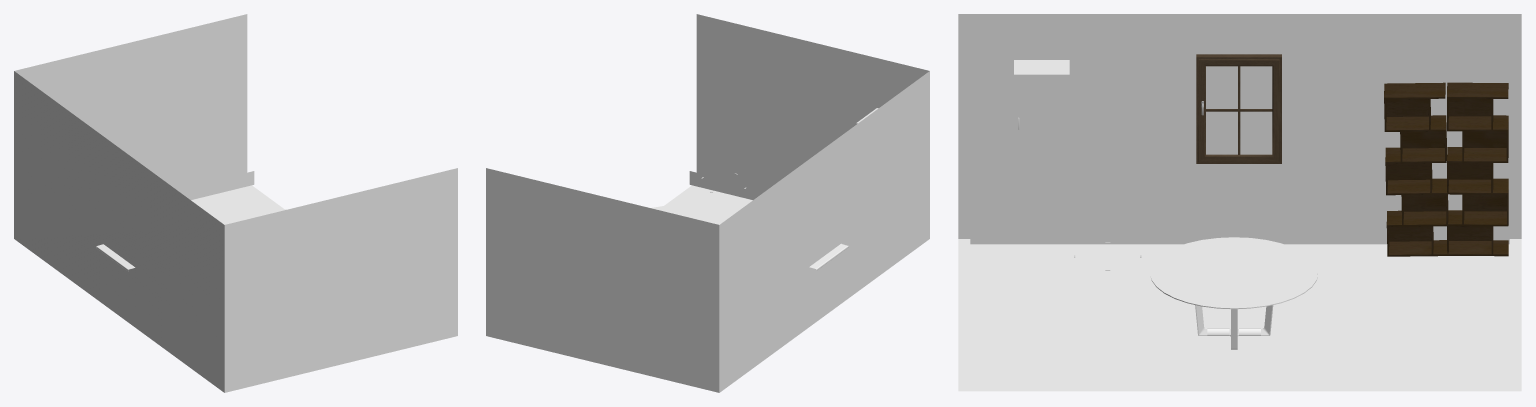
File: roomdemo.glb
3 renders of one model, left to right at view 1: azimuth 30°, elevation 25°; view 2: azimuth 150°, elevation 25°; view 3: azimuth 270°, elevation 25°, orthographic. The views are drawn at different scales.
Visible parts, largest first — view 1: Room.001, Floor, Baseboard, TimberTop.001; view 2: Room.001, Floor, Baseboard, TimberTop.001; view 3: Room.001, Floor, TimberTop.001, Asymmetric bookshelf.001, Asymmetric bookshelf, window.001, Baseboard, Cabinet1_Door, Cabinet1.
Part boxes in pixels (bbox=[...]): Room.001: bbox=[14, 14, 457, 392]; Floor: bbox=[191, 185, 283, 218]; Baseboard: bbox=[177, 171, 254, 199]; TimberTop.001: bbox=[219, 208, 286, 224]; Room.001: bbox=[486, 14, 929, 392]; Floor: bbox=[664, 185, 752, 216]; Baseboard: bbox=[689, 171, 766, 199]; TimberTop.001: bbox=[651, 205, 730, 224]; Room.001: bbox=[958, 14, 1521, 238]; Floor: bbox=[958, 239, 1521, 391]; TimberTop.001: bbox=[1150, 237, 1317, 349]; Asymmetric bookshelf.001: bbox=[1384, 82, 1448, 256]; Asymmetric bookshelf: bbox=[1447, 82, 1508, 256]; window.001: bbox=[1196, 54, 1281, 163]; Baseboard: bbox=[970, 226, 1509, 244]; Cabinet1_Door: bbox=[1014, 74, 1069, 133]; Cabinet1: bbox=[1014, 60, 1069, 73].
Bounding box in the file's own units: 4.05 × 2.67 × 6.06.
15 materials, 2 textured.
